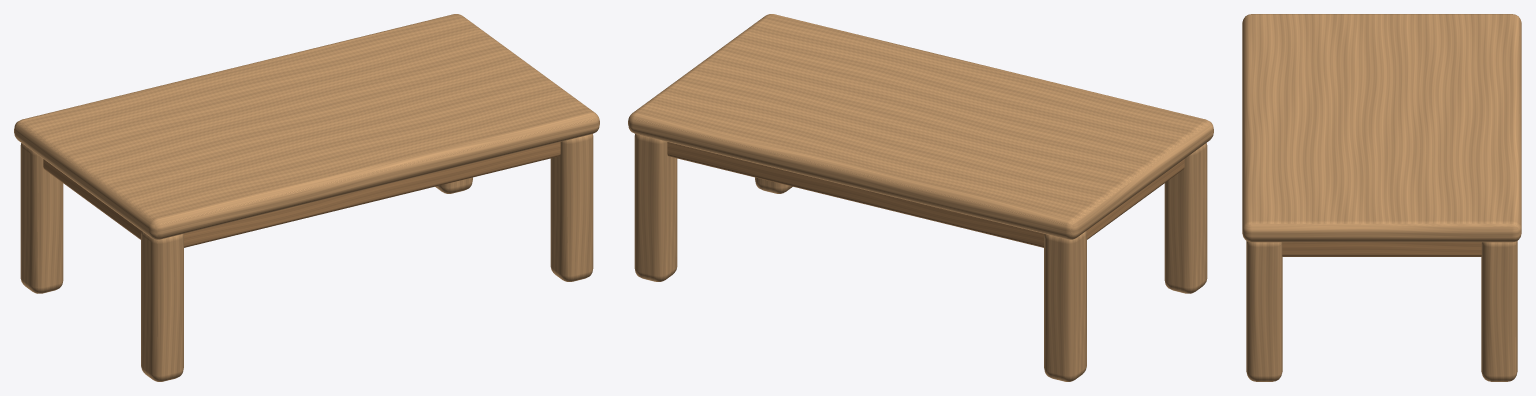
File: reference.glb
3 renders of one model, left to right at view 1: azimuth 30°, elevation 25°; view 2: azimuth 150°, elevation 25°; view 3: azimuth 270°, elevation 25°, orthographic. The views are drawn at different scales.
Parts seen in each view (by area): view 1: Soft-edged top, Rounded leg (×3), Long apron, End apron; view 2: Soft-edged top, Rounded leg (×3), Long apron, End apron; view 3: Soft-edged top, Rounded leg (×2), End apron.
Boxes of the visible parts, x1,y1,x2,y2 form: Soft-edged top: [14, 14, 599, 239]; Rounded leg (×3): [20, 134, 593, 381]; Long apron: [183, 142, 560, 247]; End apron: [43, 159, 141, 239]; Soft-edged top: [628, 14, 1213, 239]; Rounded leg (×3): [634, 134, 1207, 381]; Long apron: [667, 142, 1044, 247]; End apron: [1086, 159, 1184, 239]; Soft-edged top: [1242, 14, 1521, 242]; Rounded leg (×2): [1246, 241, 1517, 381]; End apron: [1282, 242, 1481, 256].
Bounding box in the file's own units: 1.16 × 0.41 × 0.64.
2 materials, 2 textured.
